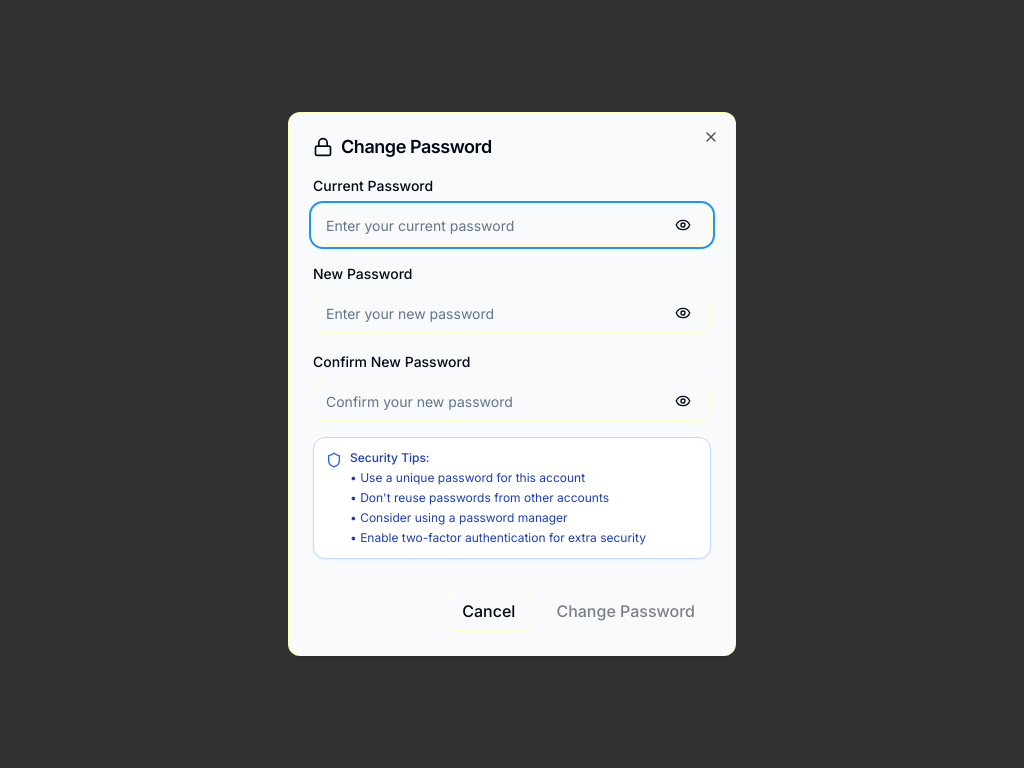
Test case: PasswordChangeModal › handles password change error
The width and height of the screenshot is (1024, 768).
Note: Fill valid form
In the password field with test id "pwd-current": (512, 225) [313,205,711,245], type "wrong123"
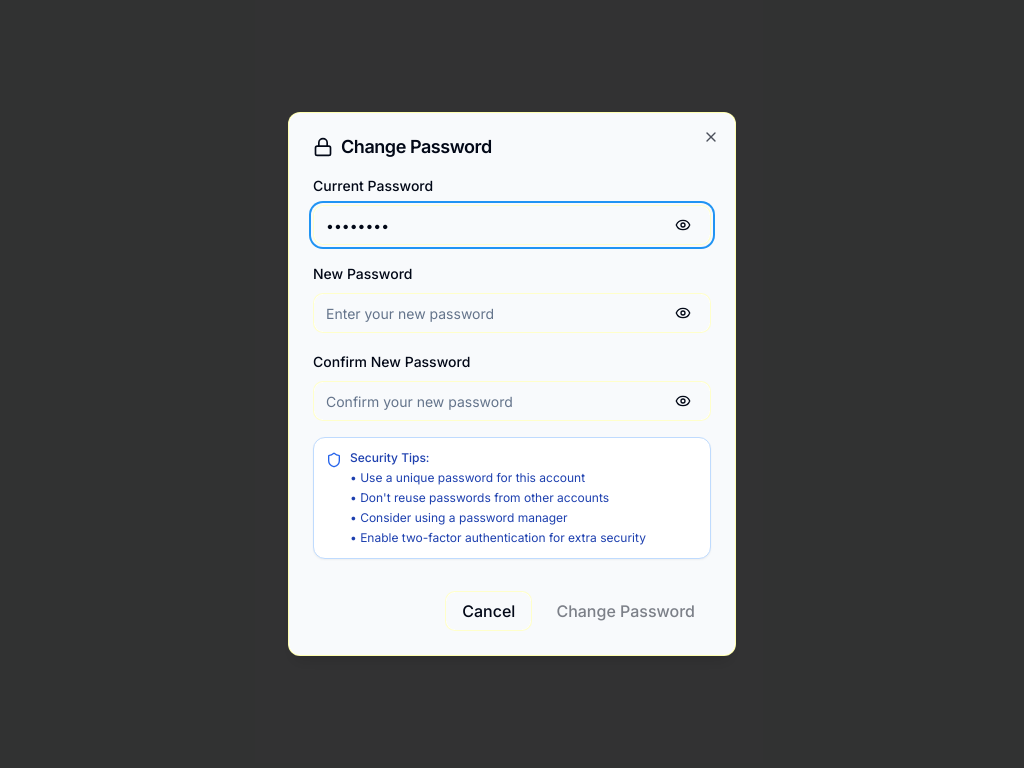
In the password field with test id "pwd-new": (512, 313) [313,293,711,333], type "StrongPassword123!"
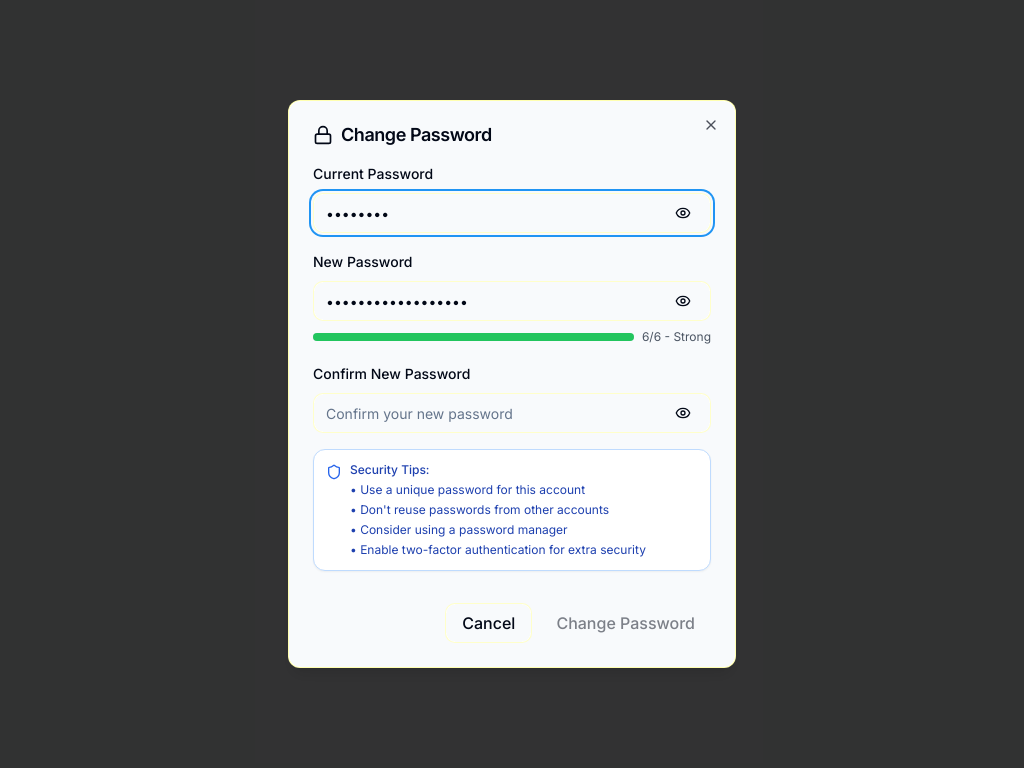
In the password field with test id "pwd-confirm": (512, 413) [313,393,711,433], type "StrongPassword123!"
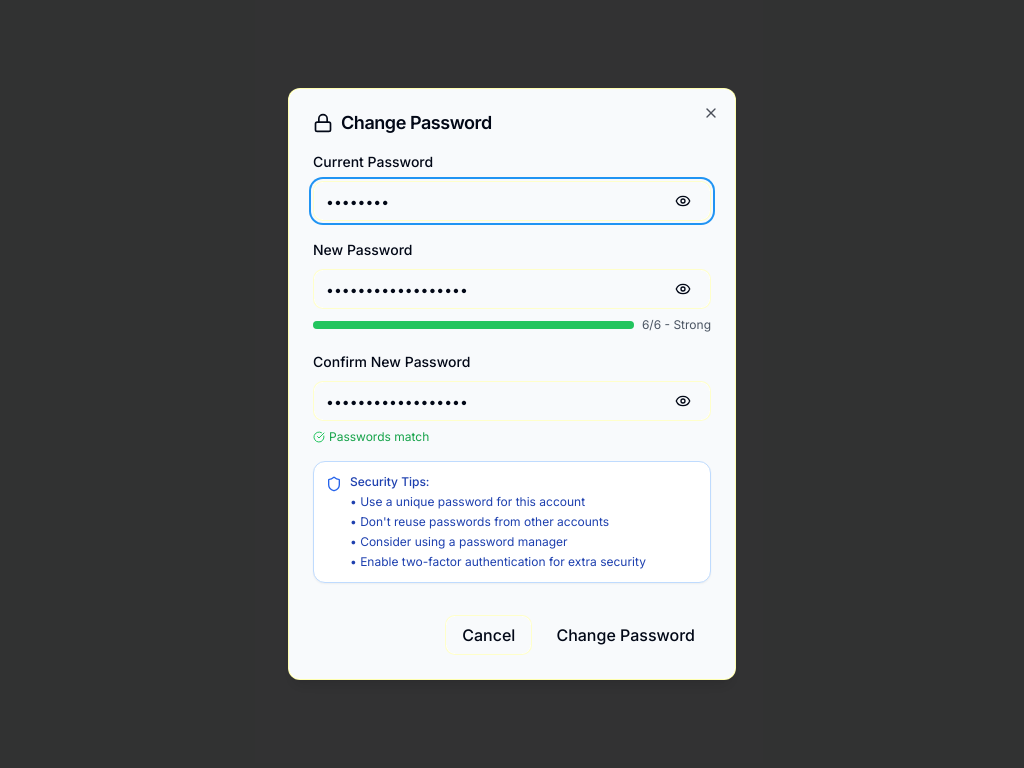
Note: Submit form
Click the button with test id "pwd-submit": (626, 635) [540,615,711,655]
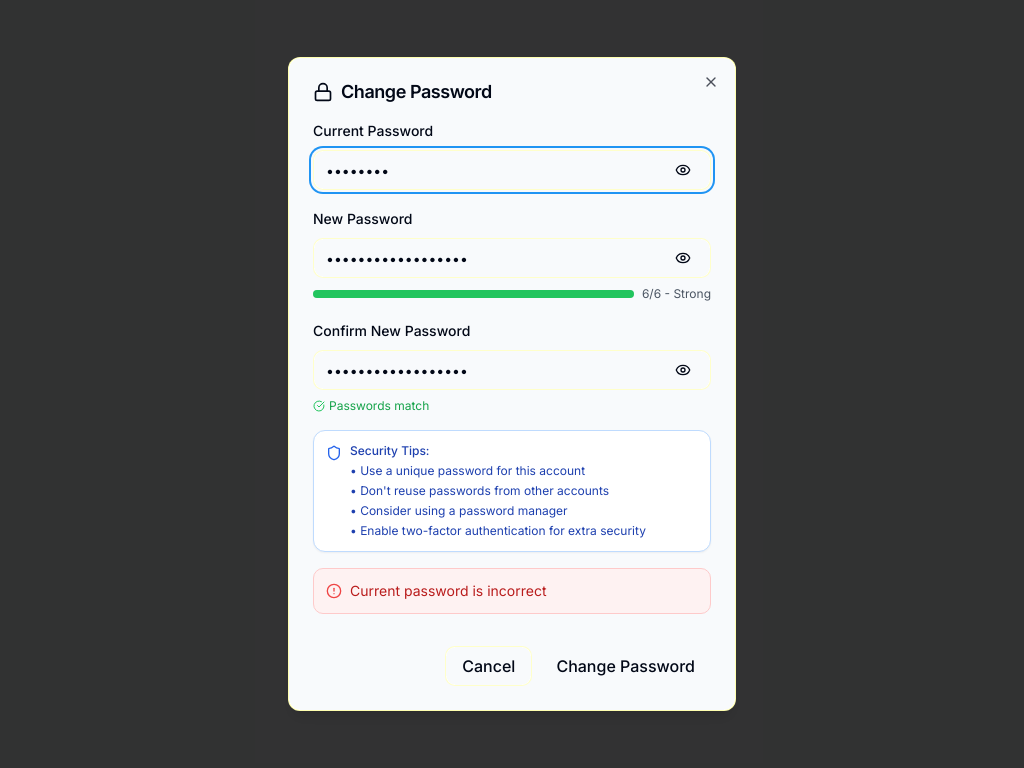
Expected: the text "Current password is incorrect" is shown, [350,581,546,601]
